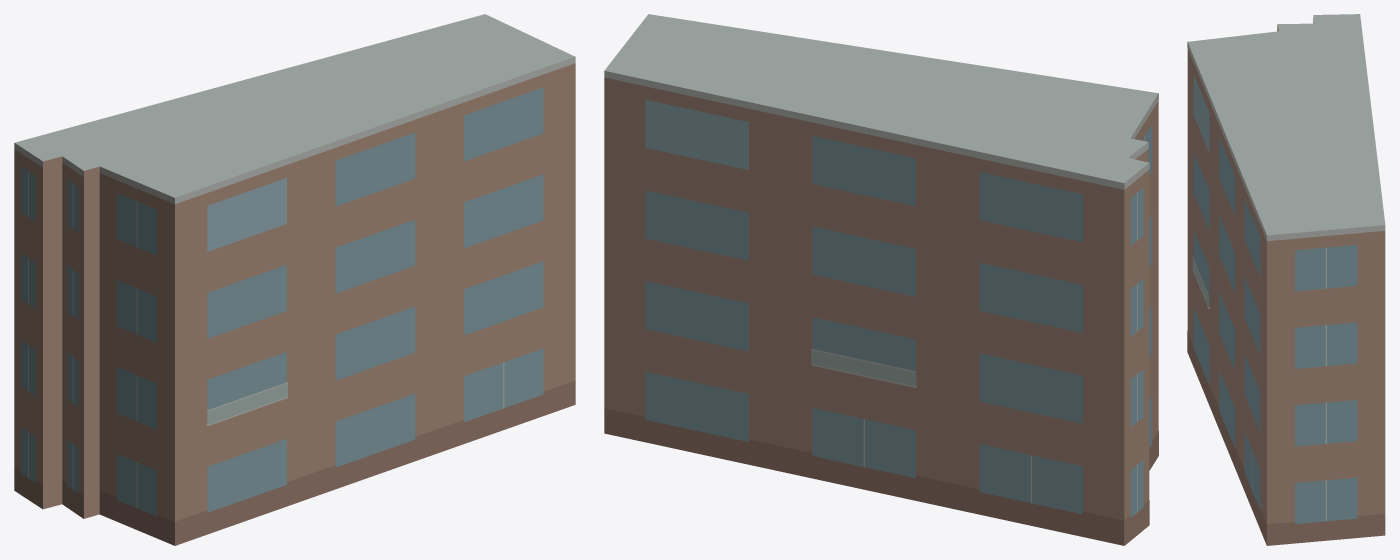
The model's file is survey-upis-32726179.glb.
3 views of the same model, side by side, from view 1: azimuth 30°, elevation 25°; view 2: azimuth 150°, elevation 25°; view 3: azimuth 270°, elevation 25° (orthographic). The views are drawn at different scales.
Parts seen in each view (by area): view 1: survey-upis-32726179.tmp; view 2: survey-upis-32726179.tmp; view 3: survey-upis-32726179.tmp.
Boxes of the visible parts, box(x1,y1,x2,y2) form: survey-upis-32726179.tmp: box(14, 14, 575, 545); survey-upis-32726179.tmp: box(604, 14, 1158, 545); survey-upis-32726179.tmp: box(1187, 14, 1385, 545).
Bounding box in the file's own units: 20.29 × 13.25 × 7.67.
